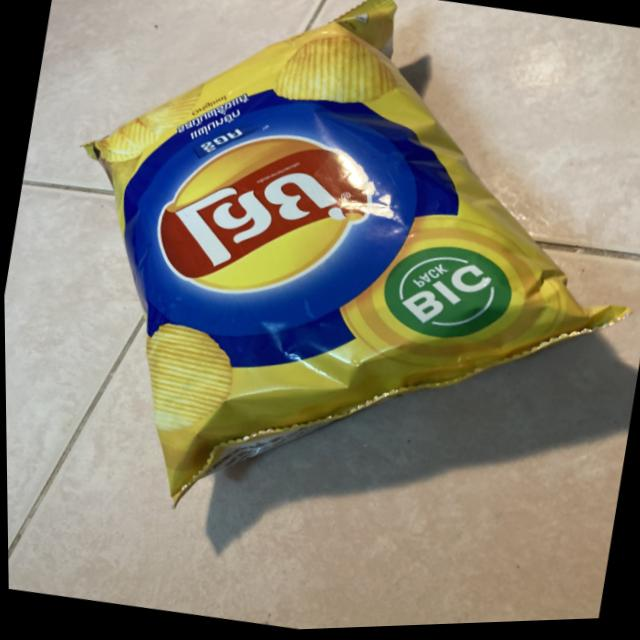LayYellow: (34, 0, 633, 540)
